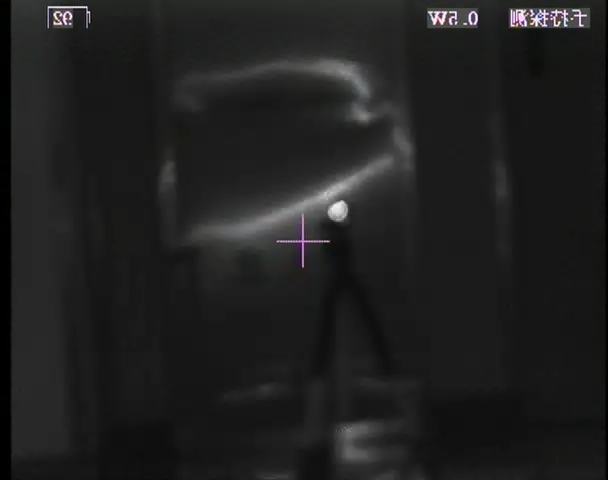my: (325, 197, 349, 223)
